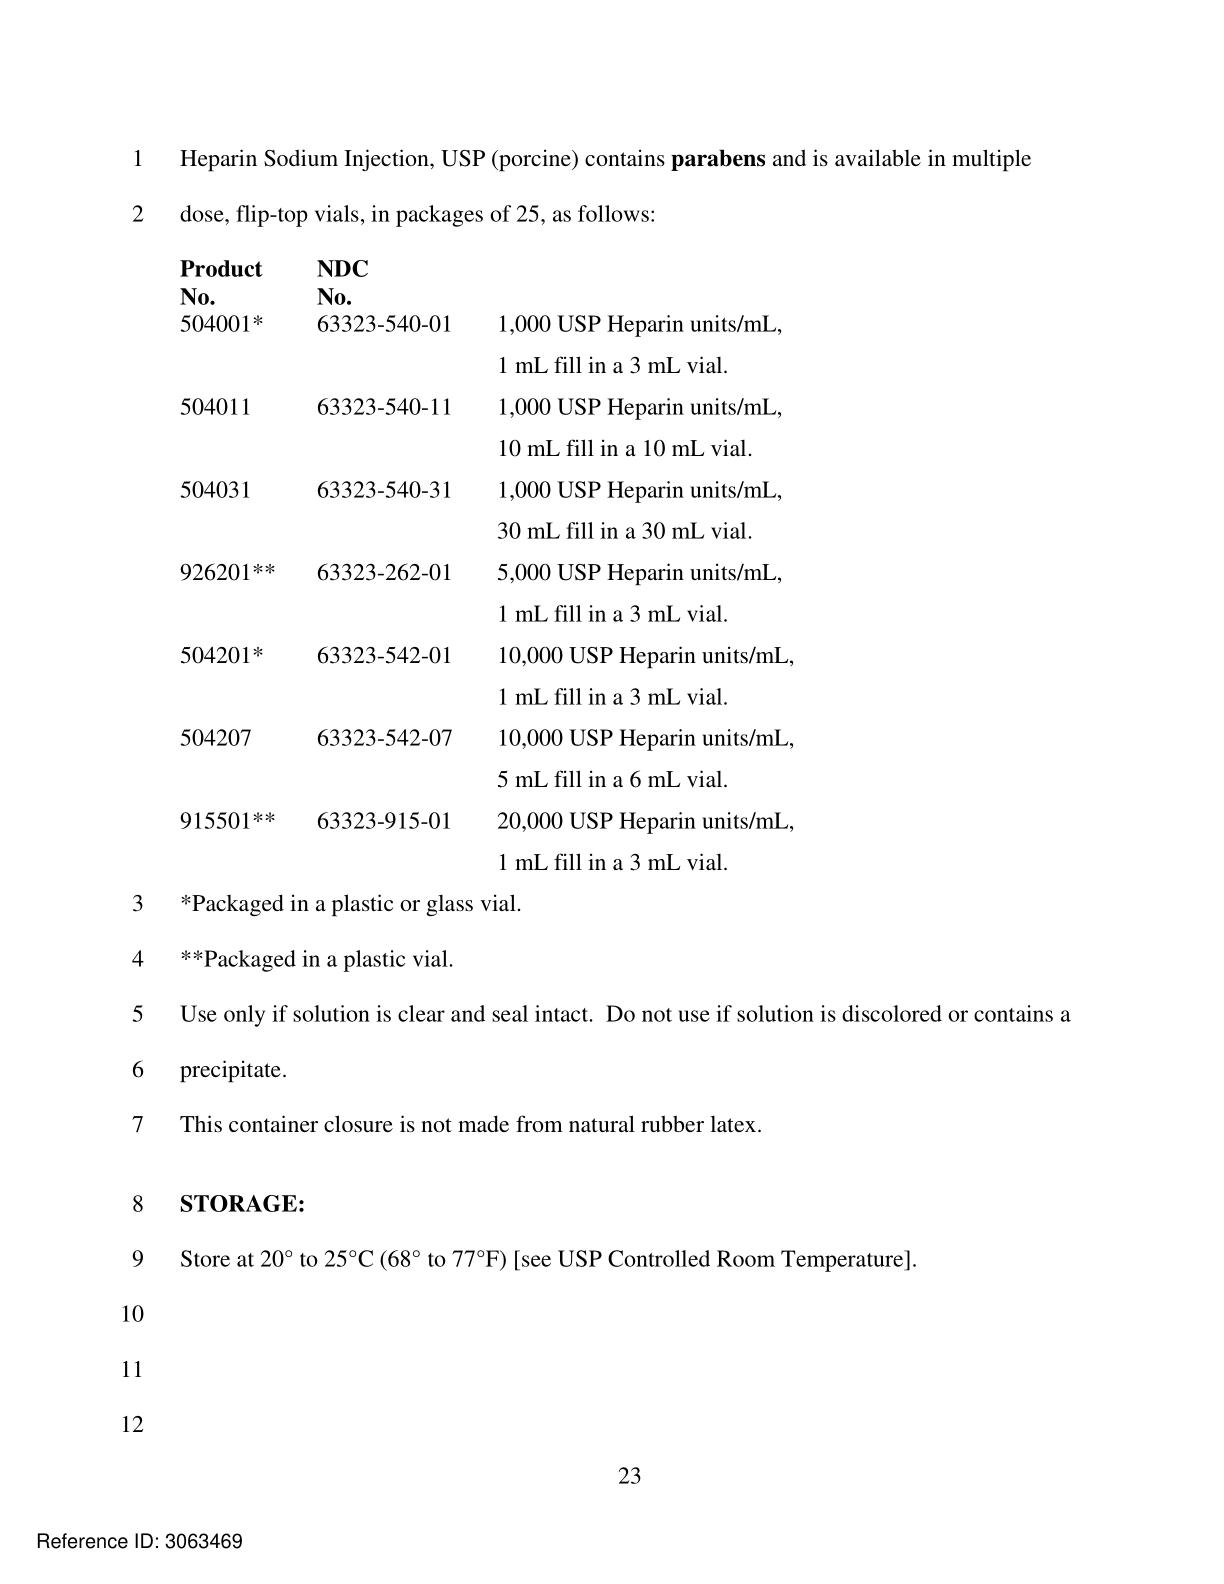nolines: (177, 255, 795, 878)
